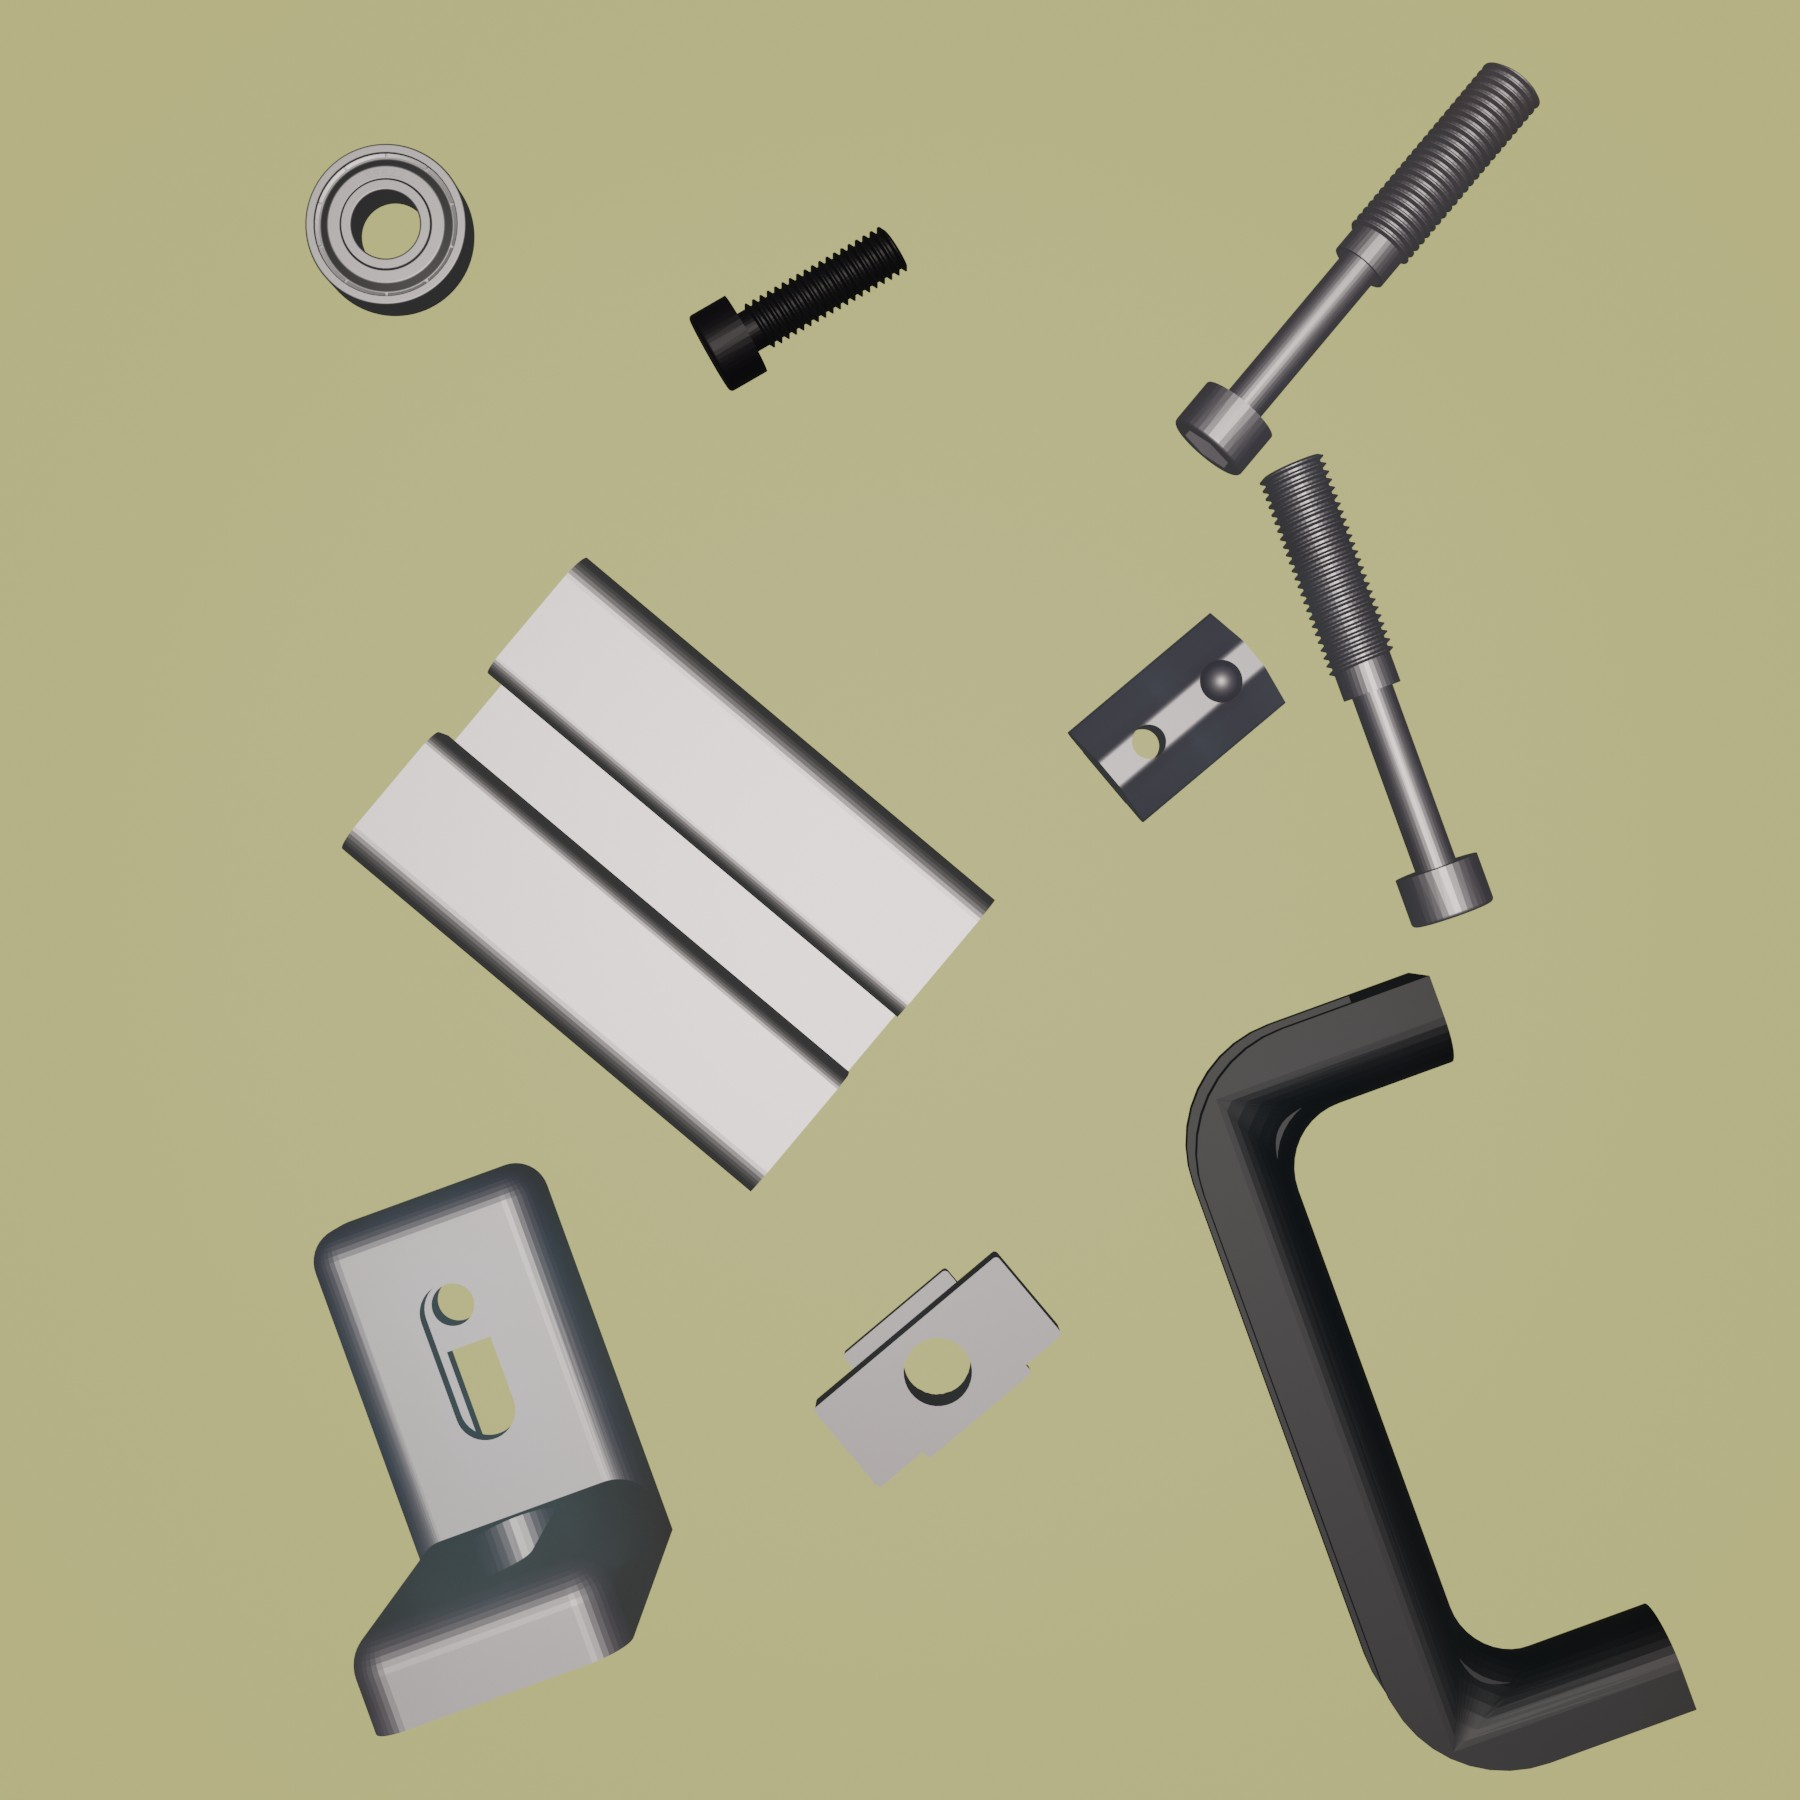Aluminium Extension: (333, 555, 992, 1198)
Ball Bearing: (302, 138, 476, 320)
Multiwinkel: (312, 1159, 674, 1739)
Pull Handle: (1182, 968, 1704, 1775)
Shoulder Socket Head Cap Screw: (1174, 58, 1545, 478), (1256, 452, 1493, 930)
Socket Head Cap Screw: (686, 219, 907, 396)
T Nut Square: (811, 1246, 1062, 1492)
T Spring Nut: (1065, 608, 1287, 826)
